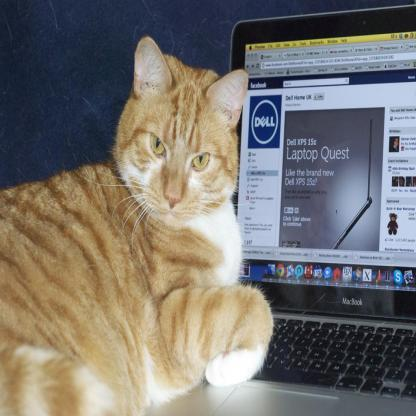board: (146, 9, 416, 416)
